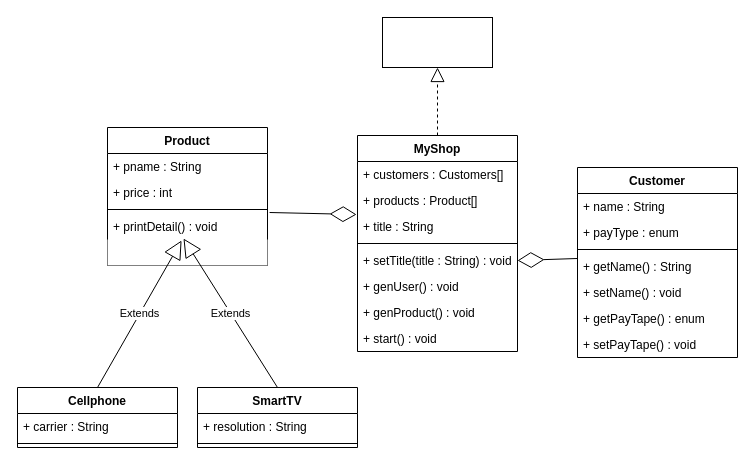
This 755x465 diagram has some shape labels left out. Here are the shapes that lost their labels. From the top down, the centre of each, then its label:
At point 437,42: "«interface» IShop".
At point 187,252: "+ printExtra() : void".
